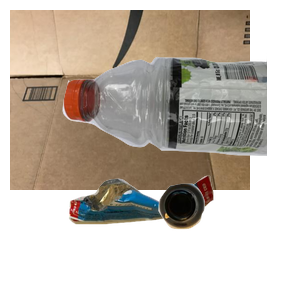cardboard: (10, 10, 250, 190)
glass: (156, 181, 300, 300)
plastic: (60, 53, 300, 201)
trash: (66, 173, 272, 300)
